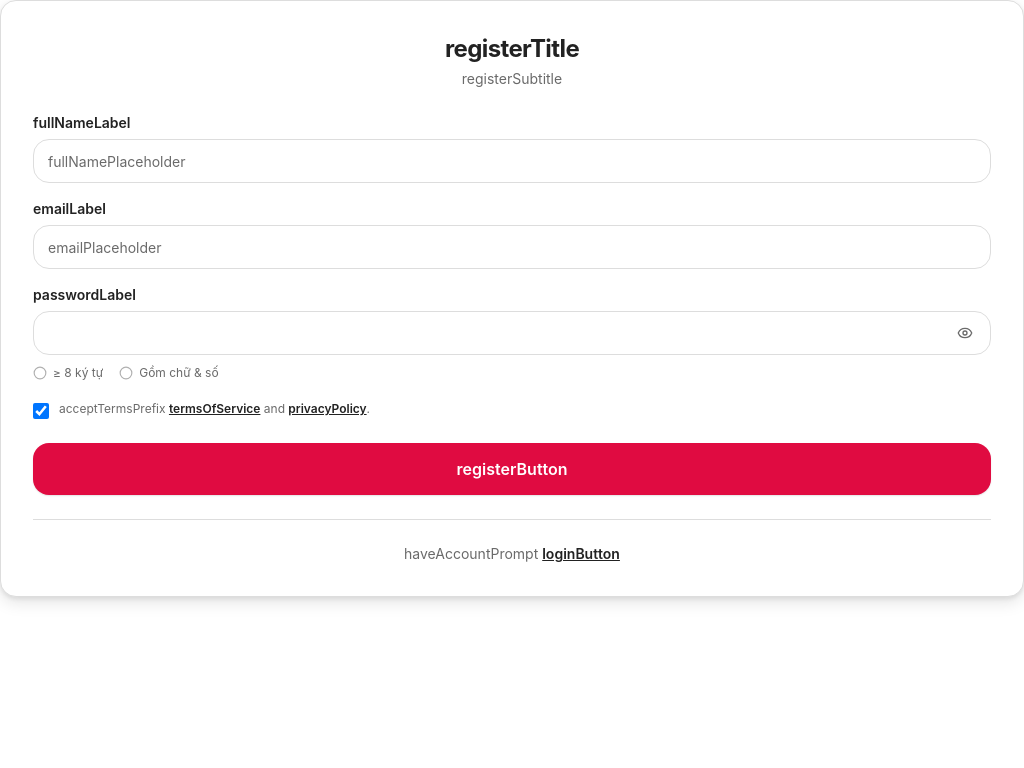
it: Auth Feature Test Suite › 3. Auth UI Interaction › renders RegisterPage and responds to form validation
Expected: the field labelled "fullNameLabel" is shown, x1=33 y1=139 x2=991 y2=183
Expected: the field labelled "emailLabel" is shown, x1=33 y1=225 x2=991 y2=269
Click the button "registerButton": (512, 469) x1=33 y1=443 x2=991 y2=495
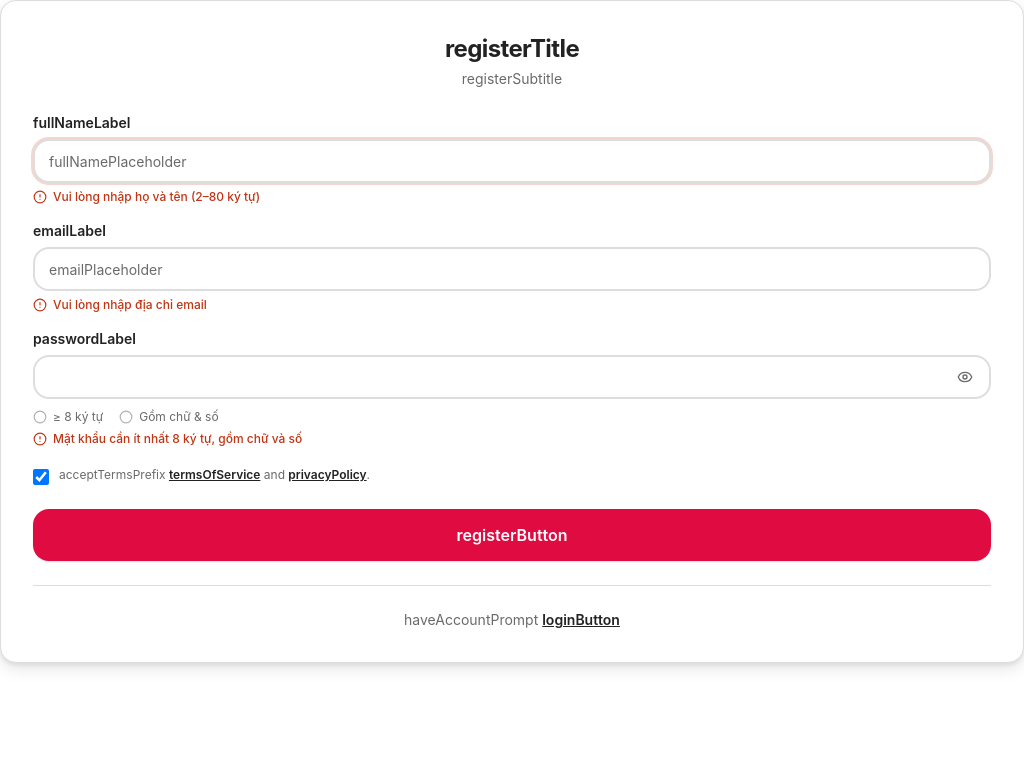
Result: the text "Mật khẩu cần ít nhất 8 ký tự, gồm chữ và số" is shown at x1=53 y1=431 x2=302 y2=447
